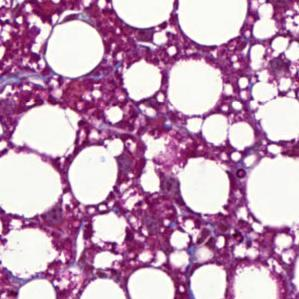steatosis: (44, 20, 104, 78), (179, 154, 233, 216), (166, 59, 221, 117), (68, 146, 119, 205), (123, 62, 163, 101)
